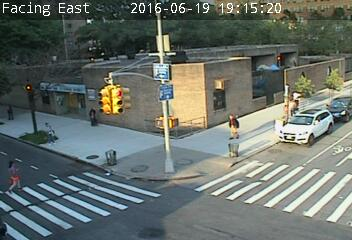neg: (292, 168, 311, 194), (226, 165, 243, 187), (133, 17, 149, 39), (285, 129, 300, 149), (236, 37, 250, 56), (178, 12, 192, 30), (160, 154, 174, 171), (135, 102, 148, 120), (108, 142, 121, 160), (130, 172, 143, 190), (318, 155, 331, 173), (285, 22, 298, 39), (202, 58, 214, 75), (88, 21, 100, 37), (243, 196, 254, 212), (178, 100, 189, 115), (67, 141, 78, 156), (51, 30, 62, 44), (88, 160, 96, 171)
pos: (221, 112, 243, 141), (41, 121, 59, 144), (84, 105, 99, 125), (3, 102, 16, 120)
